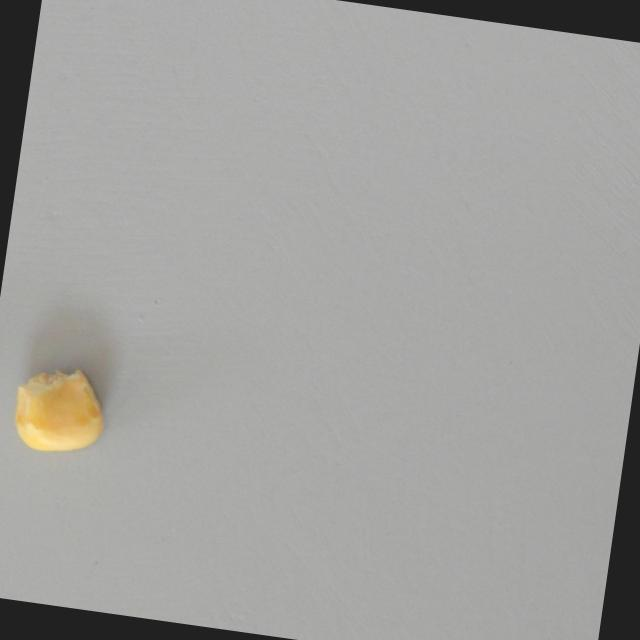pelicula: (7, 359, 111, 458)
